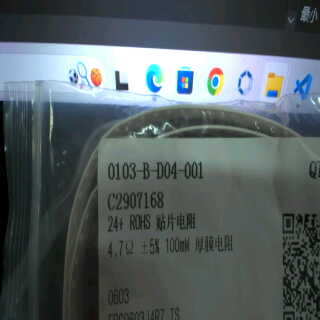4.7R: (101, 233, 139, 263)
